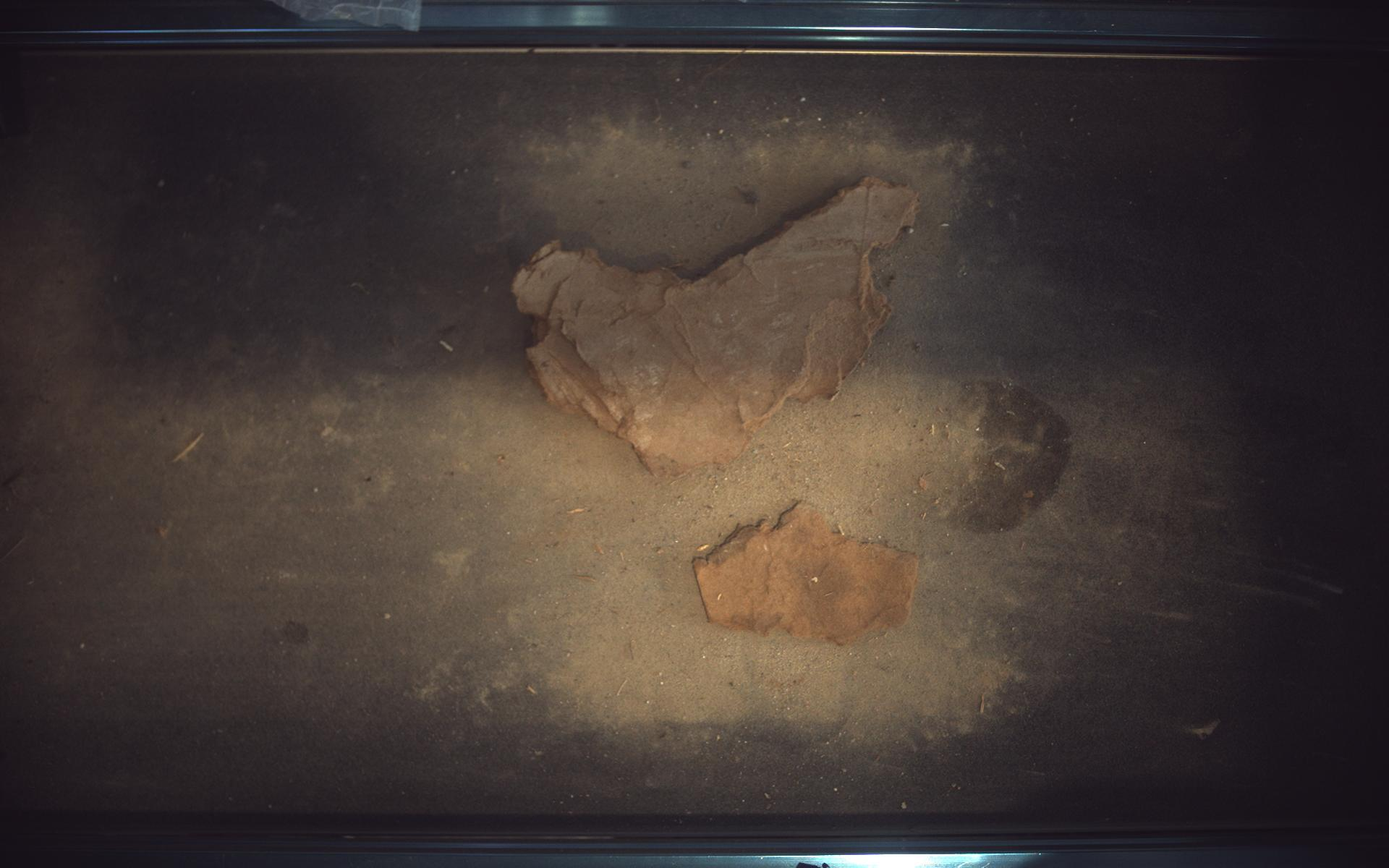wood: (513, 177, 920, 477), (694, 503, 919, 646)
